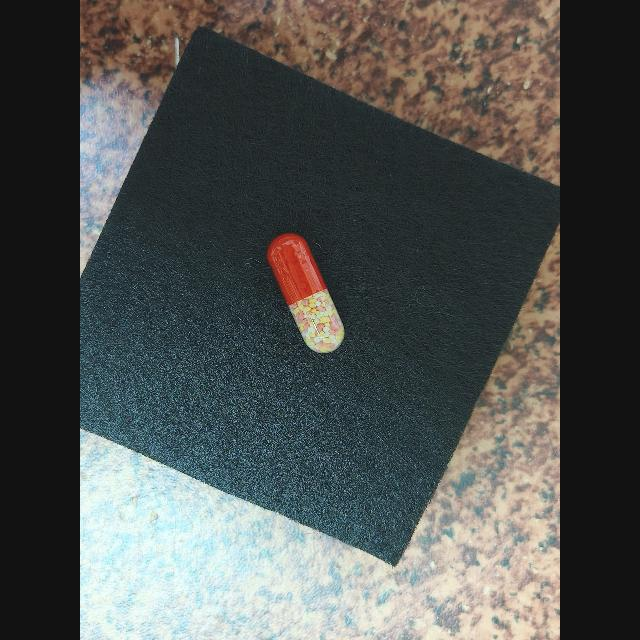Intact Capsule: (267, 233, 345, 353)
